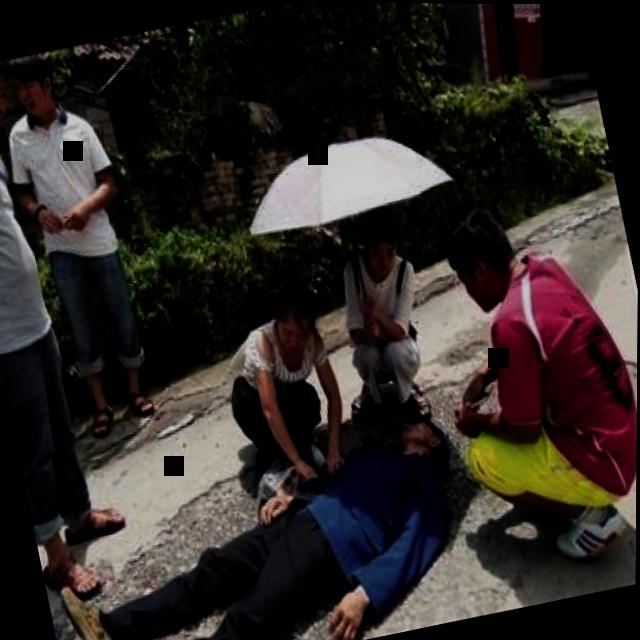Fall-Detected: (30, 385, 503, 640)
